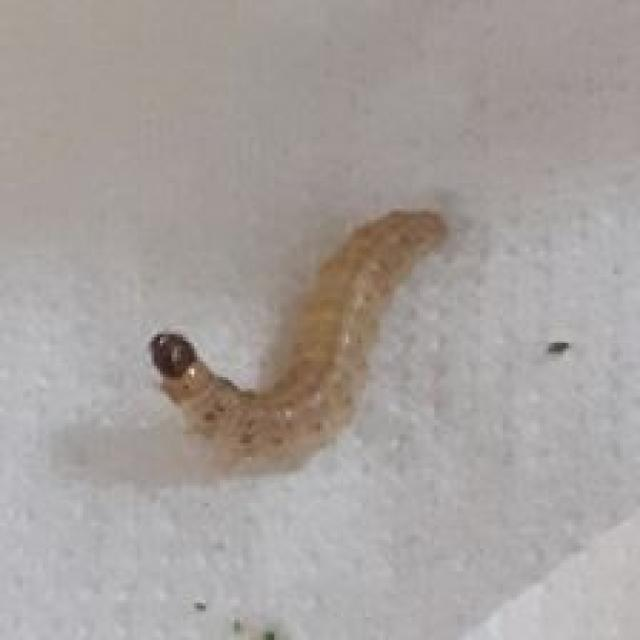white mucus: (98, 169, 486, 489)
